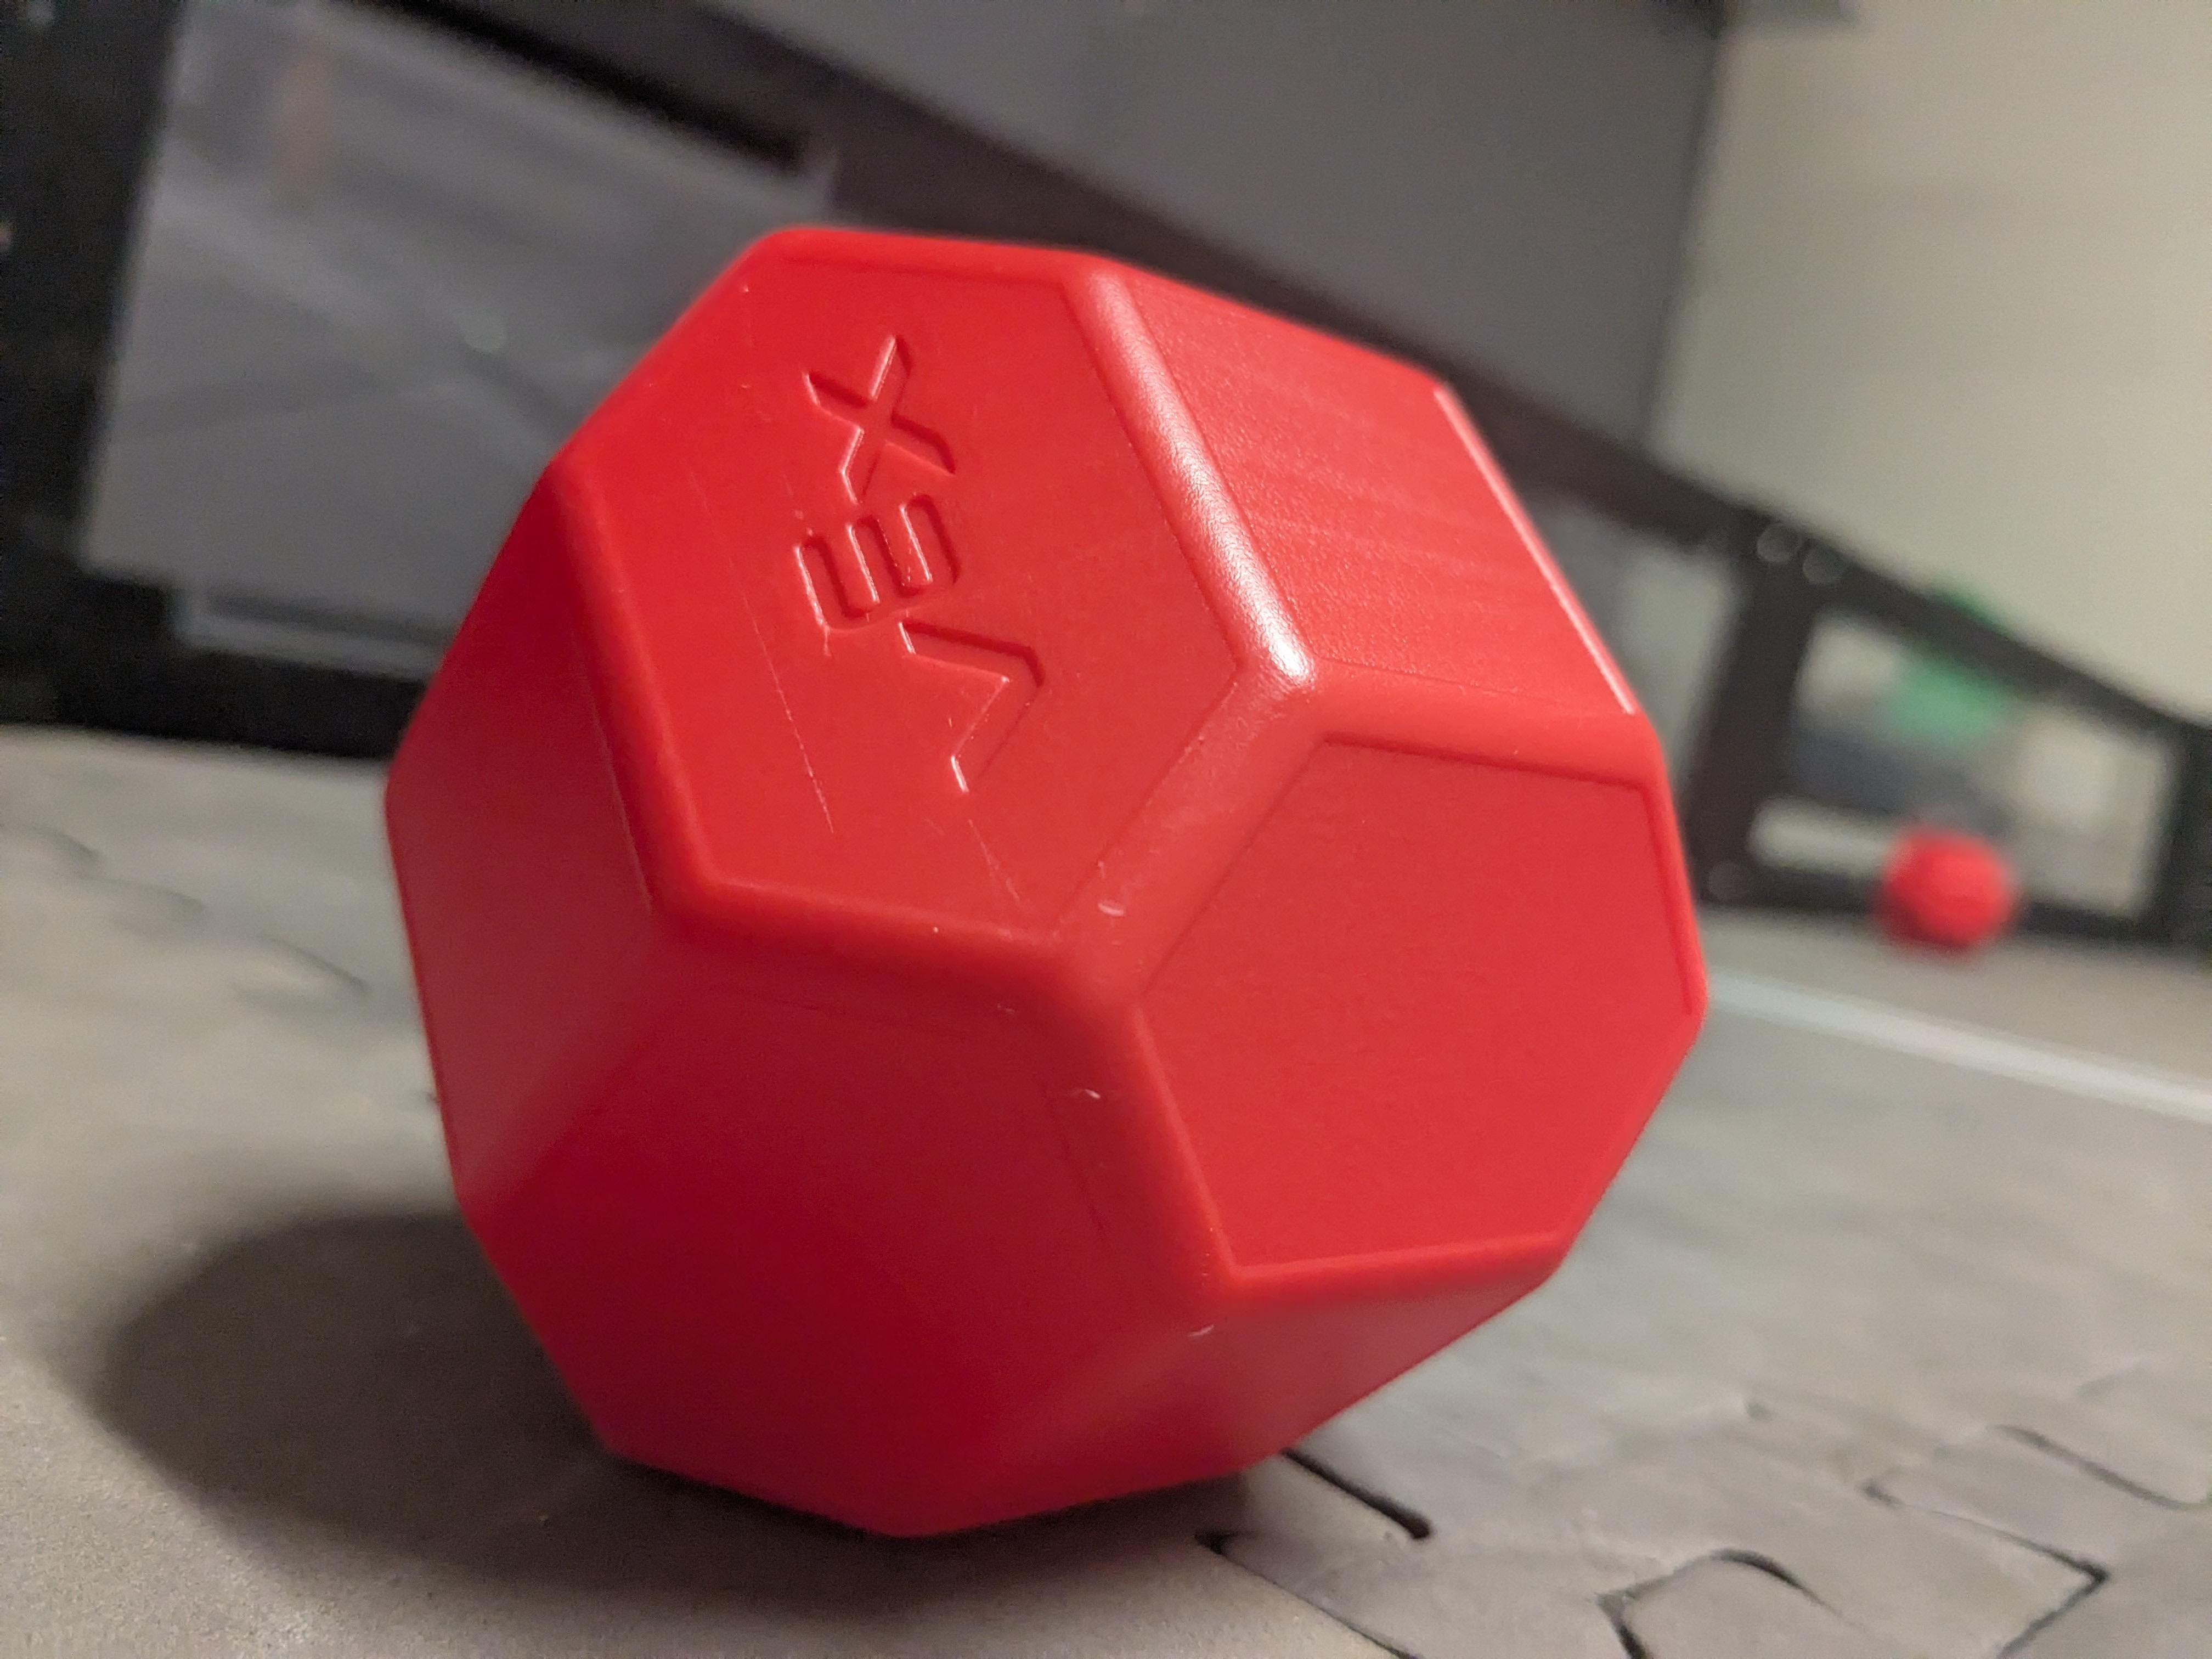Vex-Pieces-RED: (387, 228, 1705, 1534)
